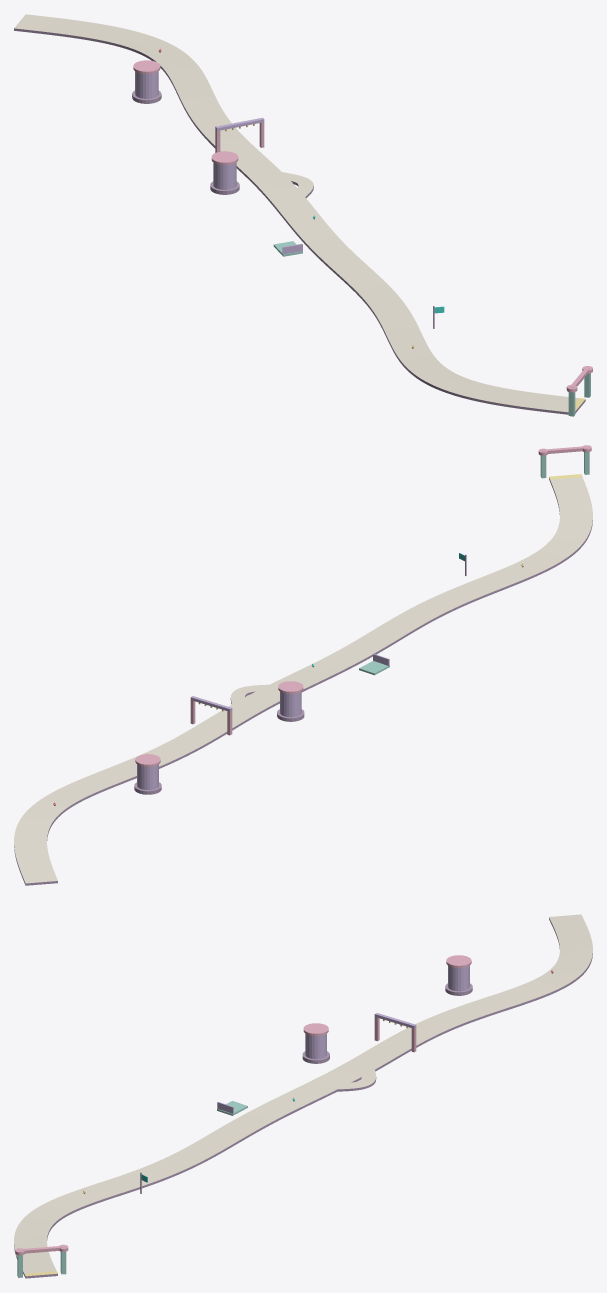
File: level1-connected-layout.glb
3 renders of one model, top to bottom at view 1: azimuth 30°, elevation 25°; view 2: azimuth 150°, elevation 25°; view 3: azimuth 330°, elevation 25°, orthographic. The views are drawn at different scales.
Parts seen in each view (by area): view 1: Road_Main_Continuous_Walkable_Top, Road_Main_Continuous_Deck_Sides, Tower_Blockout_Base (×2), Road_Tassel_Bypass_Walkable_Top; view 2: Road_Main_Continuous_Walkable_Top, Road_Main_Continuous_Deck_Sides; view 3: Road_Main_Continuous_Walkable_Top, Road_Main_Continuous_Deck_Sides, Tower_Blockout_Base (×2), Road_Tassel_Bypass_Walkable_Top.
Boxes of the visible parts, x1,y1,x2,y2 form: Road_Main_Continuous_Walkable_Top: [14, 14, 585, 412]; Road_Main_Continuous_Deck_Sides: [14, 28, 585, 414]; Tower_Blockout_Base (×2): [135, 71, 236, 189]; Road_Tassel_Bypass_Walkable_Top: [261, 167, 313, 205]; Road_Main_Continuous_Walkable_Top: [14, 477, 592, 883]; Road_Main_Continuous_Deck_Sides: [14, 477, 592, 885]; Road_Main_Continuous_Walkable_Top: [14, 914, 592, 1276]; Road_Main_Continuous_Deck_Sides: [14, 918, 592, 1278]; Tower_Blockout_Base (×2): [305, 965, 469, 1059]; Road_Tassel_Bypass_Walkable_Top: [314, 1061, 376, 1091].
Size of the model in its own units: 33.18 by 10.55 by 195.
